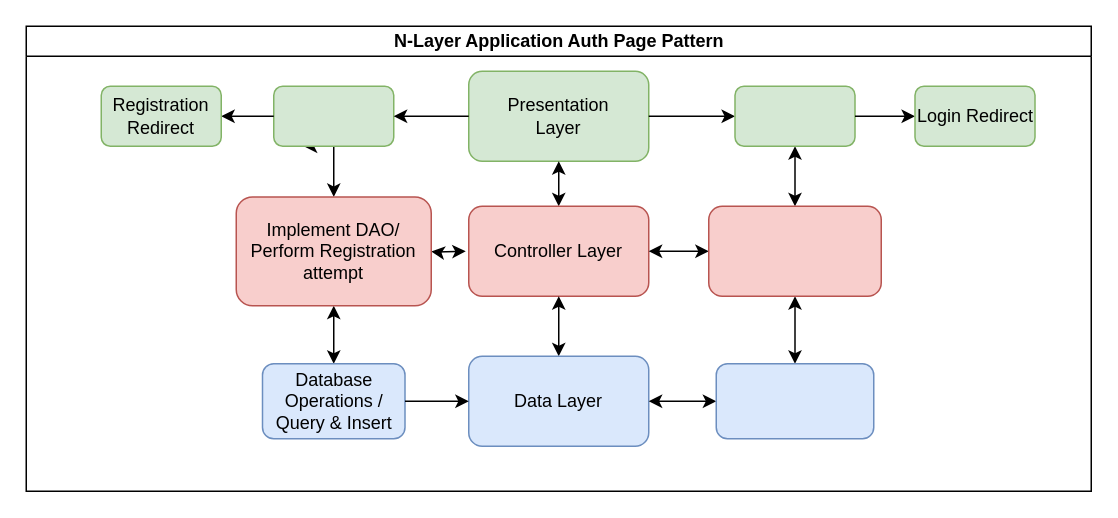
Image size: 1118x518. Some labels were removed from this diagram. The shapes that lost their labels are listed below. From the top down, each one's centre as x and y in pixels, then its label:
(333,115): "Register" Page
(794,115): "Login" Page
(794,250): Implement DAO/ Perform Login attempt
(794,400): Database Operations / Query
